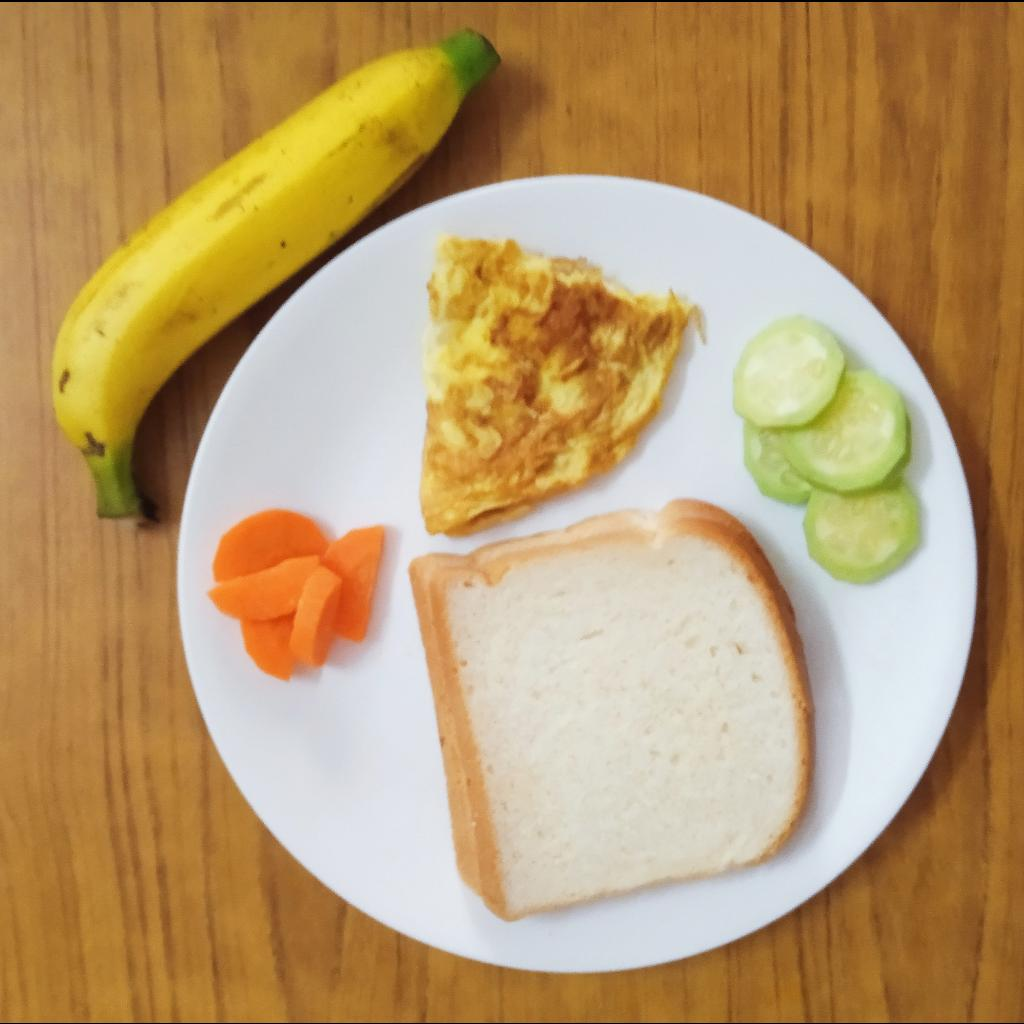banana: (49, 26, 503, 518)
bread: (410, 496, 815, 923)
carrot: (208, 508, 382, 685)
cucumber: (732, 315, 923, 585)
egg-poached: (420, 234, 698, 539)
